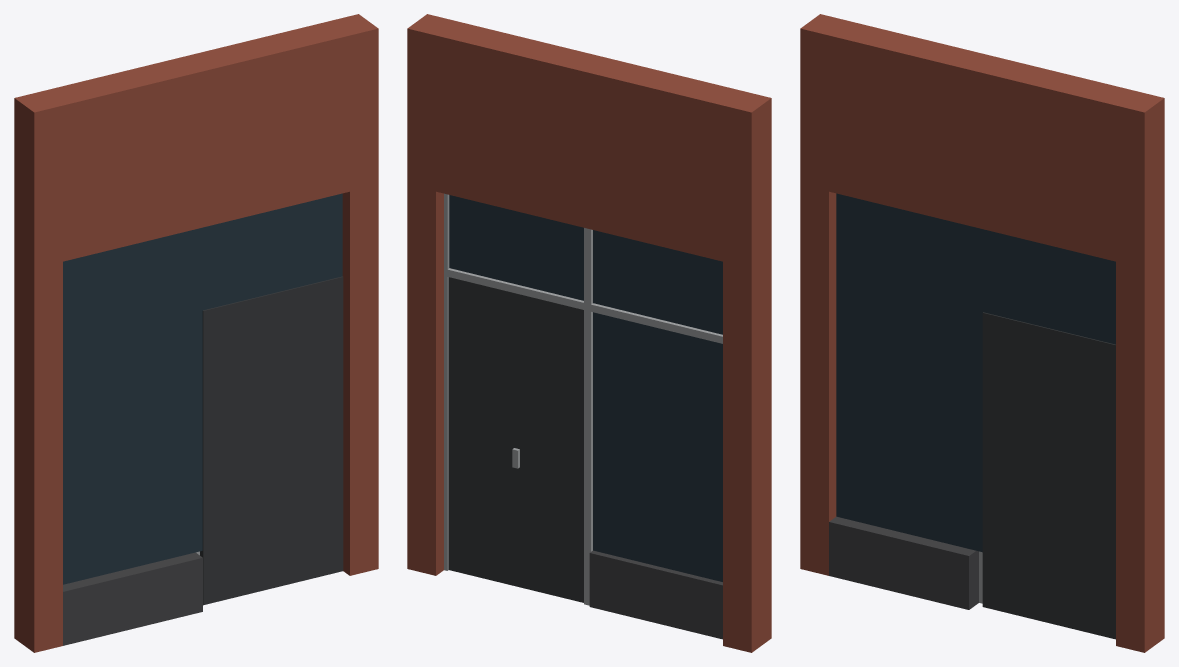
Rendered from fk_entry_g45.glb.
3 views of the same model, side by side, from view 1: azimuth 30°, elevation 25°; view 2: azimuth 150°, elevation 25°; view 3: azimuth 330°, elevation 25° (orthographic).
Visible parts, largest first — view 1: fk_entry_g45-col; view 2: fk_entry_g45-col; view 3: fk_entry_g45-col.
Boxes of the visible parts, bbox=[...] form: fk_entry_g45-col: bbox=[14, 14, 378, 652]; fk_entry_g45-col: bbox=[407, 14, 771, 652]; fk_entry_g45-col: bbox=[800, 14, 1164, 652].
Bounding box in the file's own units: 3 × 4.5 × 0.3.
